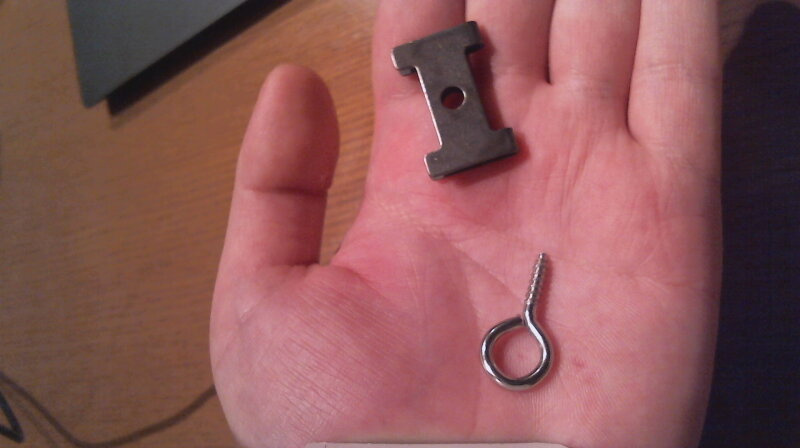O001: (476, 250, 564, 393)
O002: (388, 19, 523, 184)
